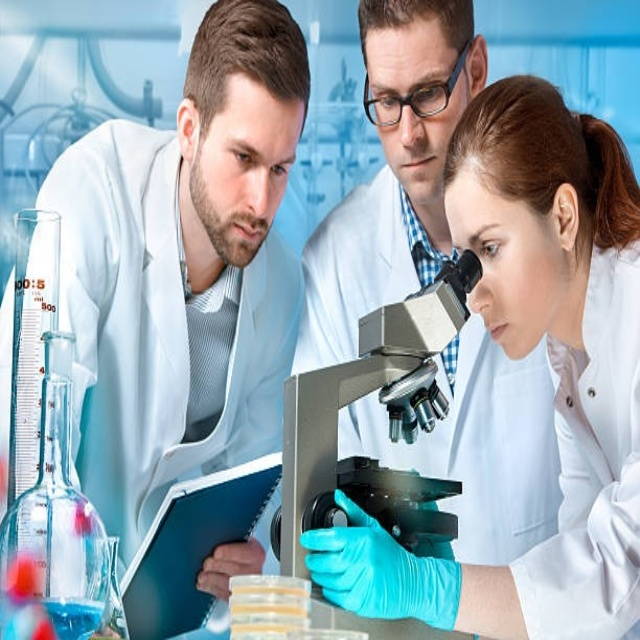Gafas: (365, 39, 472, 127)
Guantes: (301, 491, 458, 629)
Sin_gafas: (221, 121, 294, 193), (481, 202, 522, 264)
Sin_guantes: (195, 534, 268, 603)
Sin_mascara: (479, 311, 529, 364), (224, 210, 267, 262)
